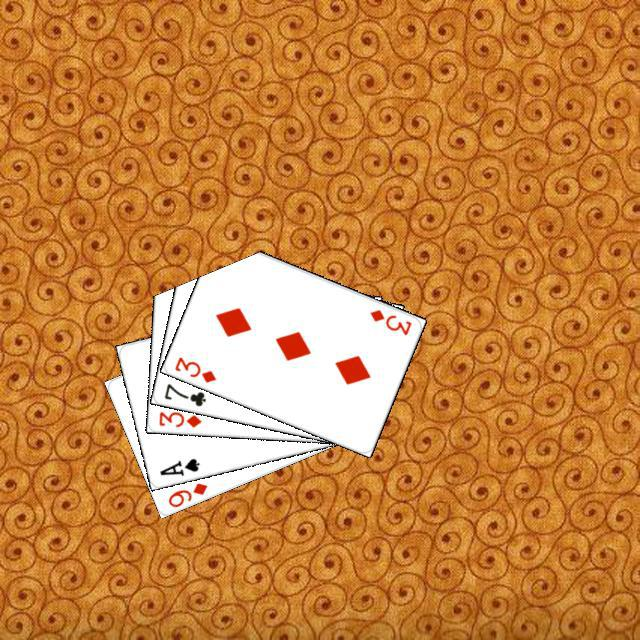3d: (170, 351, 218, 384), (365, 304, 413, 337), (154, 406, 203, 429)
7c: (159, 379, 208, 408)
9d: (163, 478, 209, 509)
As: (155, 453, 201, 477)
